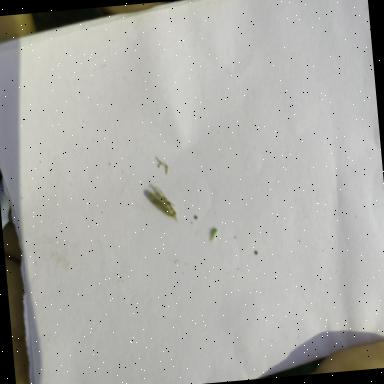pbw: (148, 184, 178, 220)
